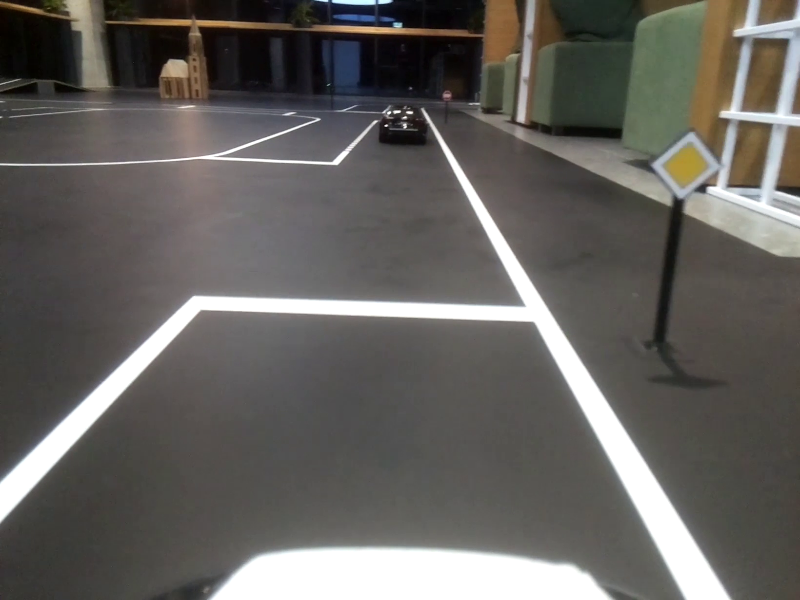priority: (644, 125, 733, 214)
